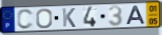3: (108, 4, 124, 28)
4: (83, 6, 98, 28)
A: (126, 5, 147, 26)
C: (16, 8, 35, 31)
K: (61, 7, 77, 28)
O: (36, 8, 54, 30)
